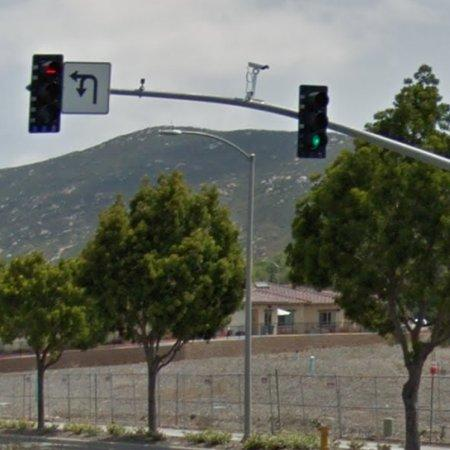traffic lights: (298, 85, 329, 158)
